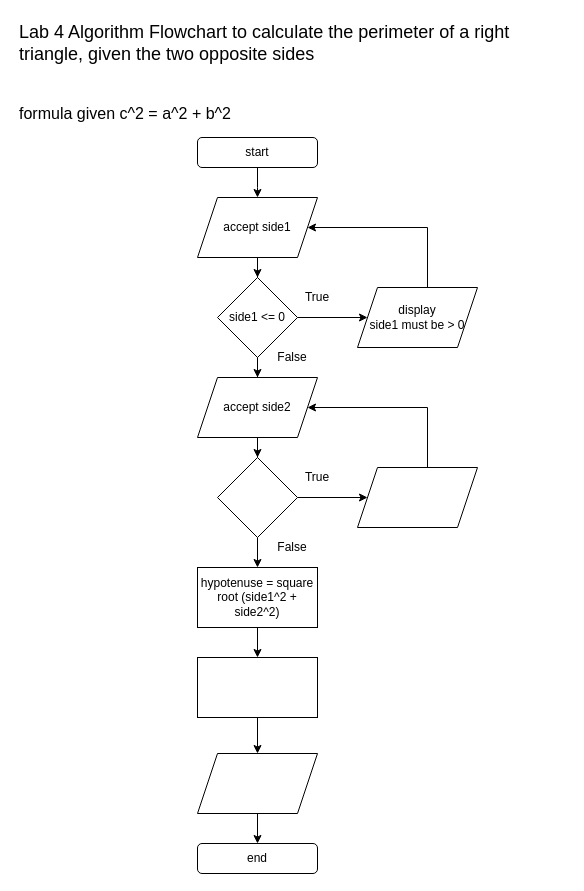
The diagram is 584 pixels wide and 891 high, and some of its shapes have lost their labels. Here are the shapes that lost their labels. From the top down, the centre of each, then its label:
At (257,497): "side2 <= 0".
At (417,497): "display side2 must be > 0".
At (257,687): "perimeter = hypotenuse + side1 + side2".
At (257,783): "display perimeter".
